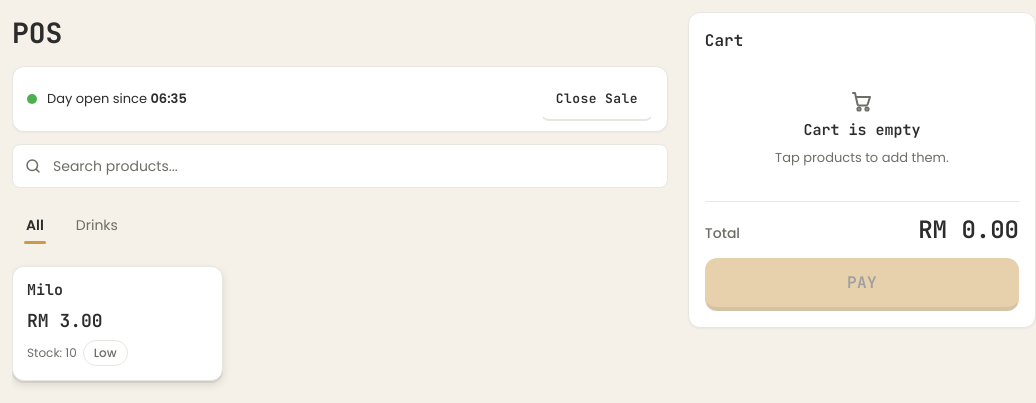
Scenario: PosPage › adds a product with one tap: badge 1 and formatted total
Click the button with aria-label "Add Milo, RM 3.00" at (117, 323), box [12,266,223,380]
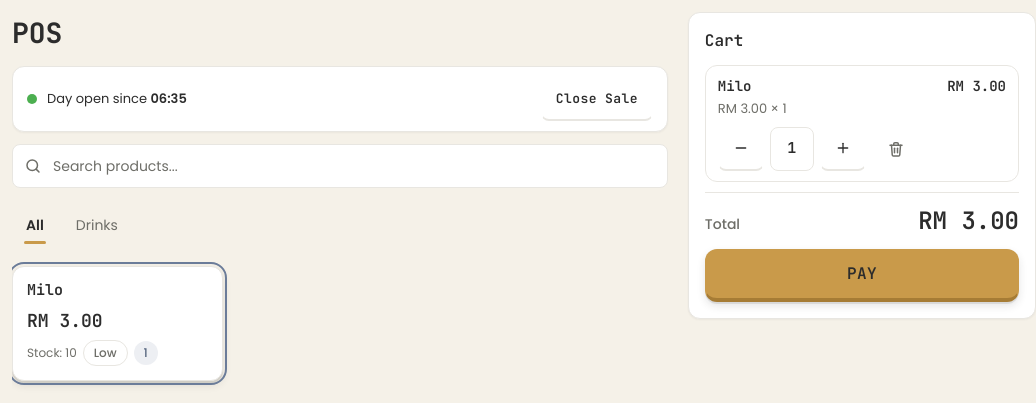
Now the text "1" below "Day open since" is shown, box [144,344,148,360]
Now the text "Milo" below "Cart" is shown, box [718,77,751,95]
Now the text "RM 3.00" in the row of "Total" is shown, box [918,204,1019,236]
